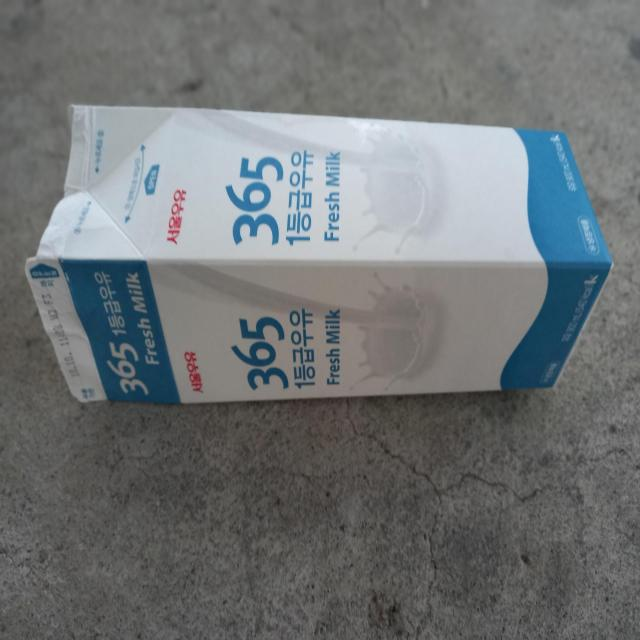paperpack: (24, 105, 613, 403)
